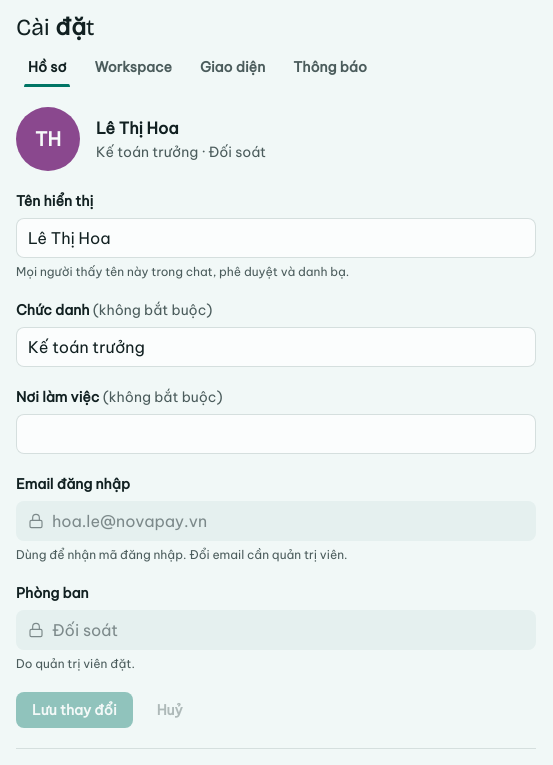
Scenario: SettingsScreen: Hồ sơ › sends only the field that changed, says so, and the new name shows everywhere
Replace the text in the field labelled "Chức danh (không bắt buộc)" with "Giám đốc tài chính": [276, 347] box left=28, top=327, right=524, bottom=367
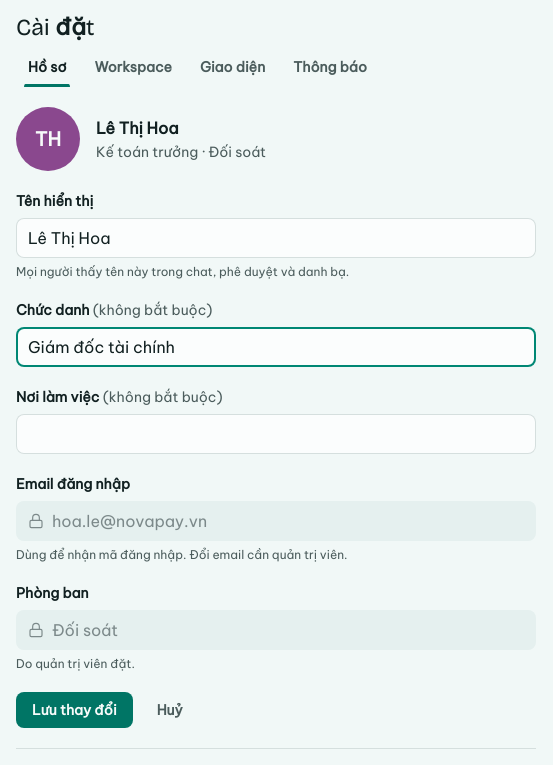
Click the button "Lưu thay đổi": [74, 710] box left=16, top=692, right=133, bottom=728
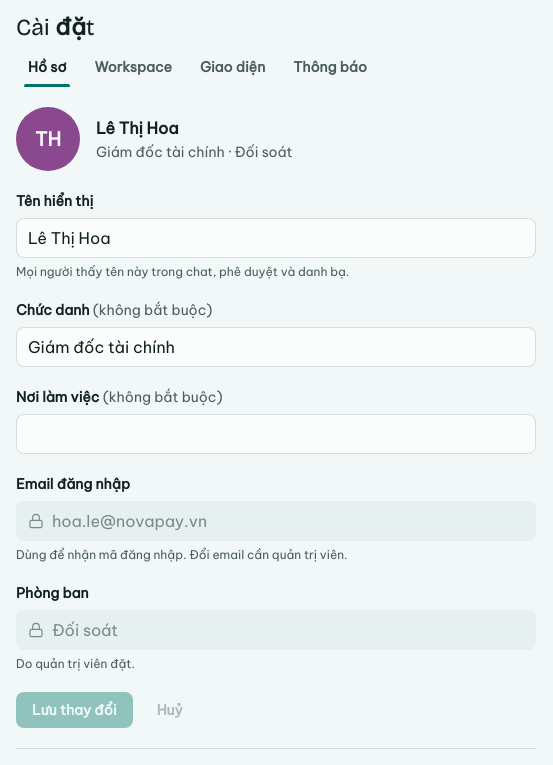
Expected: the button "Lưu thay đổi" is disabled, left=16, top=692, right=133, bottom=728
